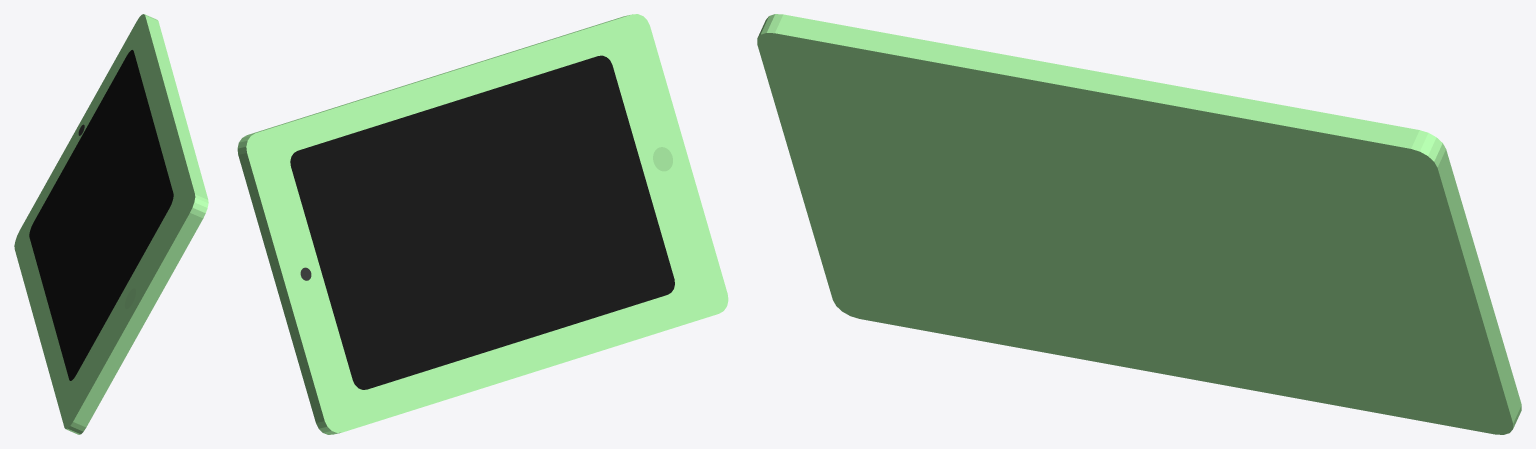
Rendered from tablet.glb.
3 views of the same model, side by side, from view 1: azimuth 30°, elevation 25°; view 2: azimuth 150°, elevation 25°; view 3: azimuth 270°, elevation 25° (orthographic). The views are drawn at different scales.
Visible parts, largest first — view 1: tablet; view 2: tablet; view 3: tablet.
Boxes of the visible parts, x1,y1,x2,y2 form: tablet: [14, 14, 208, 434]; tablet: [237, 14, 728, 434]; tablet: [757, 14, 1521, 434].
Bounding box in the file's own units: 0.3378 × 0.284 × 0.5193.
